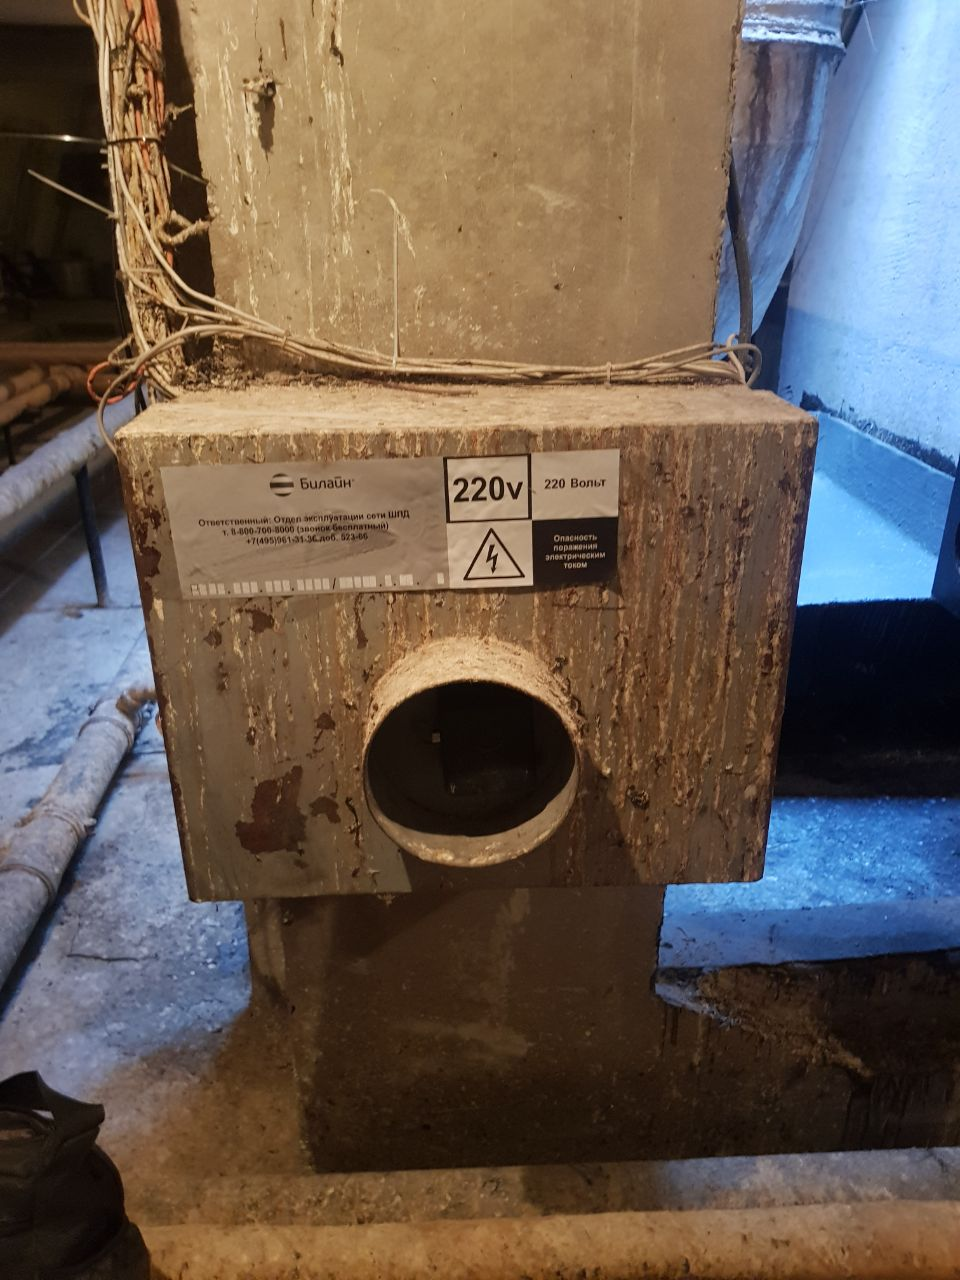shta-3: (107, 374, 821, 901)
